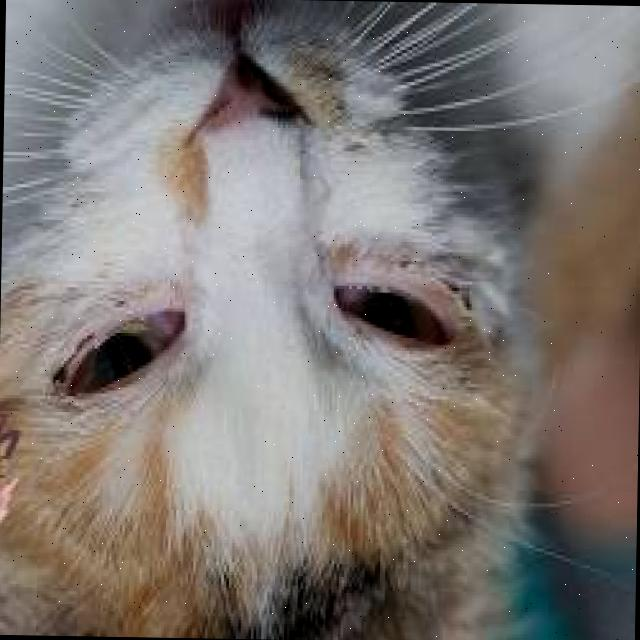cat-eye: (54, 248, 464, 428)
